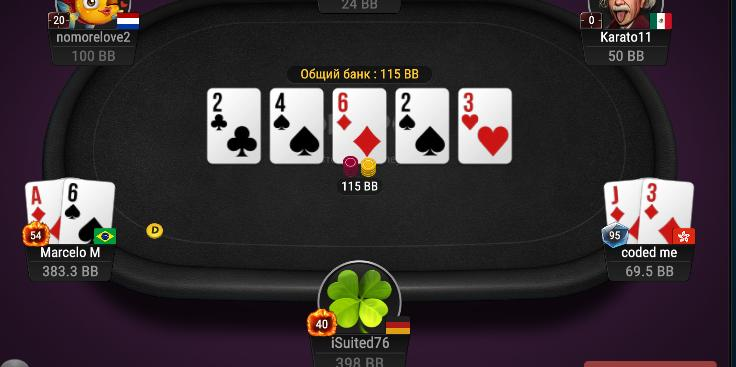2c: (207, 89, 260, 164)
2s: (396, 88, 449, 161)
3d: (641, 178, 694, 244)
3h: (459, 88, 512, 162)
4s: (271, 89, 322, 164)
6d: (333, 88, 387, 163)
6s: (62, 177, 113, 245)
Ad: (24, 179, 62, 245)
Jd: (604, 180, 642, 245)
